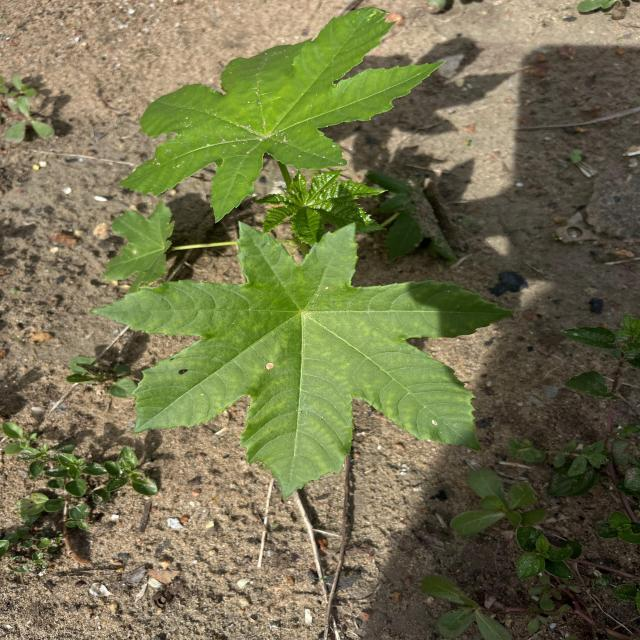Ricinus communis linn: (86, 216, 518, 502)
